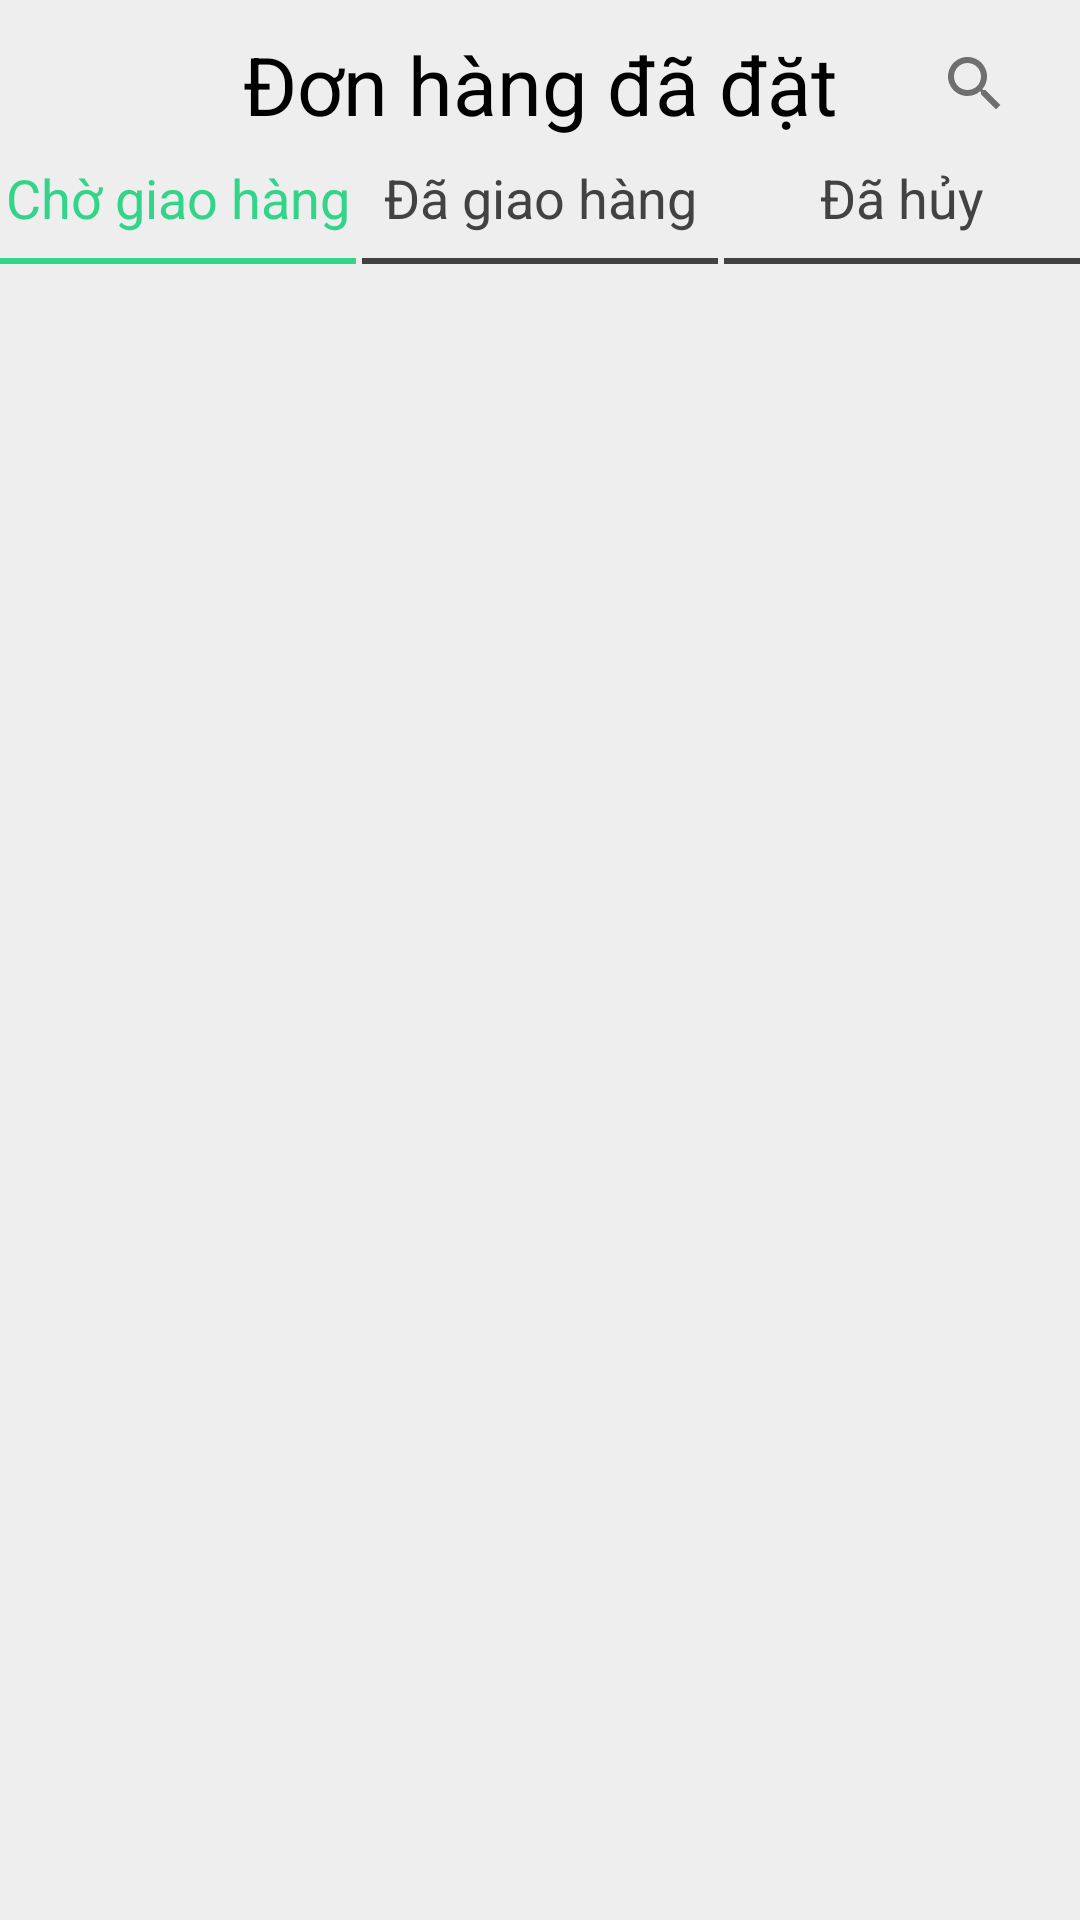

Where to tap for icons on this 1080w x 1920h app screen, as (x=x, y=y):
search: (x=974, y=83)
